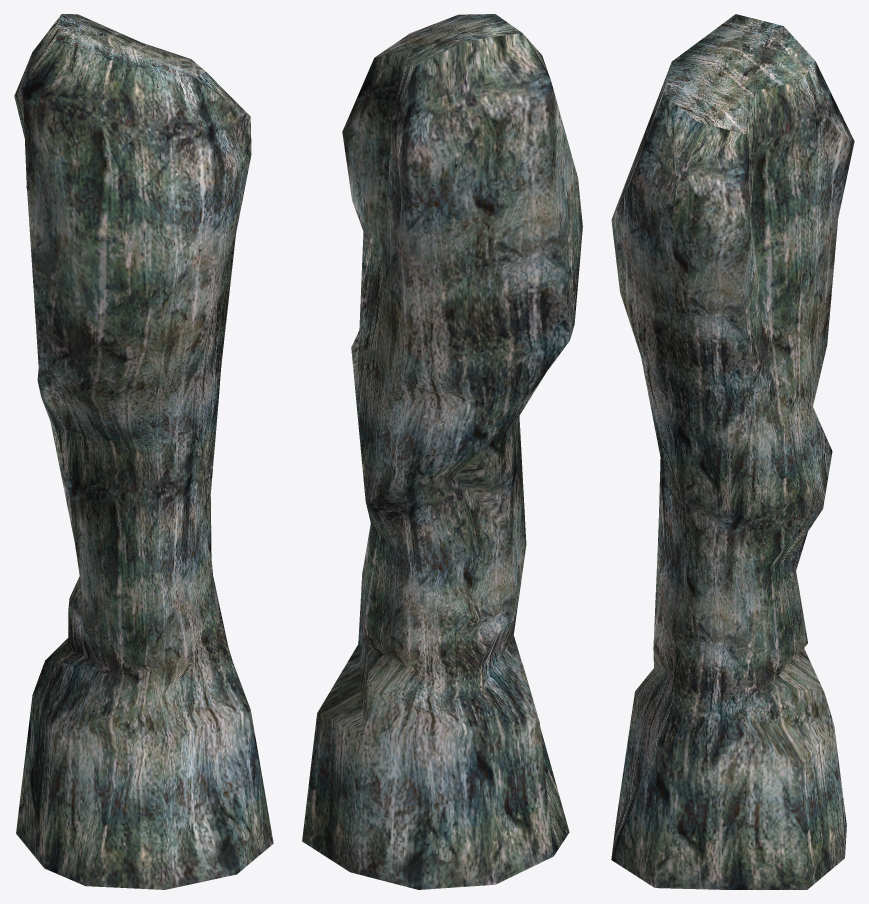
Rendered from rock_dath_desertspire_l2.fbx.
3 renders of one model, left to right at view 1: azimuth 30°, elevation 25°; view 2: azimuth 150°, elevation 25°; view 3: azimuth 270°, elevation 25°, orthographic. The views are drawn at different scales.
Visible parts, largest first — view 1: mesh_node; view 2: mesh_node; view 3: mesh_node.
Boxes of the visible parts, left/top/right/bottom form: mesh_node: left=14, top=14, right=273, bottom=889; mesh_node: left=302, top=14, right=582, bottom=889; mesh_node: left=611, top=14, right=854, bottom=889.
Size of the model in its own units: 17.94 by 65.89 by 18.32.
